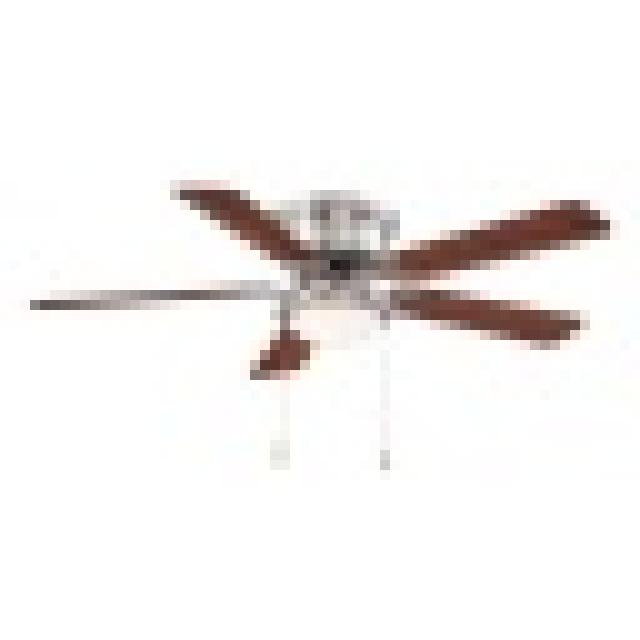Bulb: (5, 158, 640, 380)
